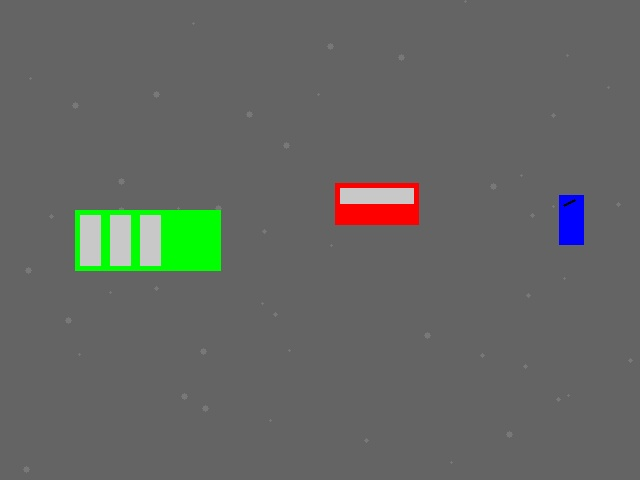bus: (75, 210, 220, 270)
car: (335, 183, 418, 224)
motorcycle: (559, 195, 583, 244)
